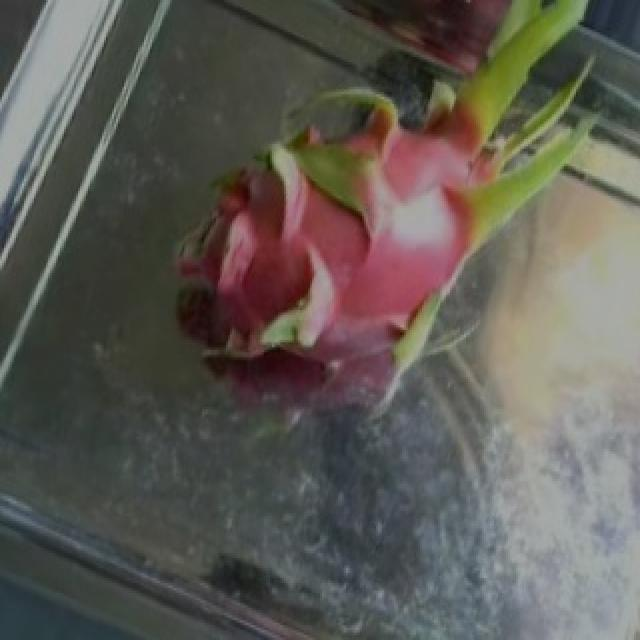fruit: (226, 0, 640, 437)
